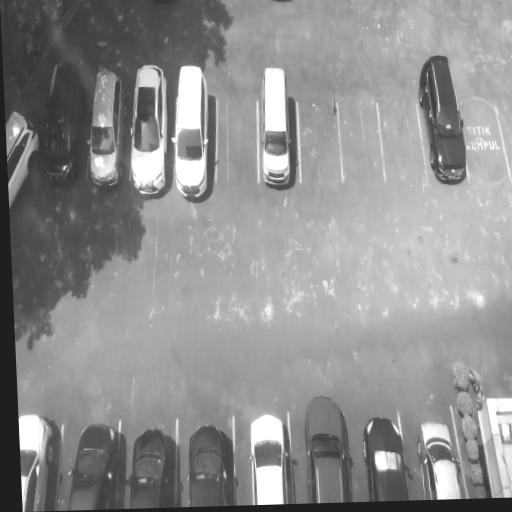Car: (414, 48, 470, 189), (37, 56, 90, 188), (128, 62, 173, 203), (169, 62, 213, 203), (299, 388, 350, 504), (86, 64, 129, 190), (64, 421, 119, 511), (257, 64, 295, 192), (244, 411, 292, 505), (360, 413, 408, 502), (181, 420, 230, 507), (18, 411, 58, 512), (125, 426, 173, 509), (6, 106, 42, 215), (415, 419, 463, 500)
Space Available: (378, 102, 427, 182), (338, 102, 386, 183), (460, 105, 510, 182), (217, 99, 259, 182), (299, 101, 342, 182)
